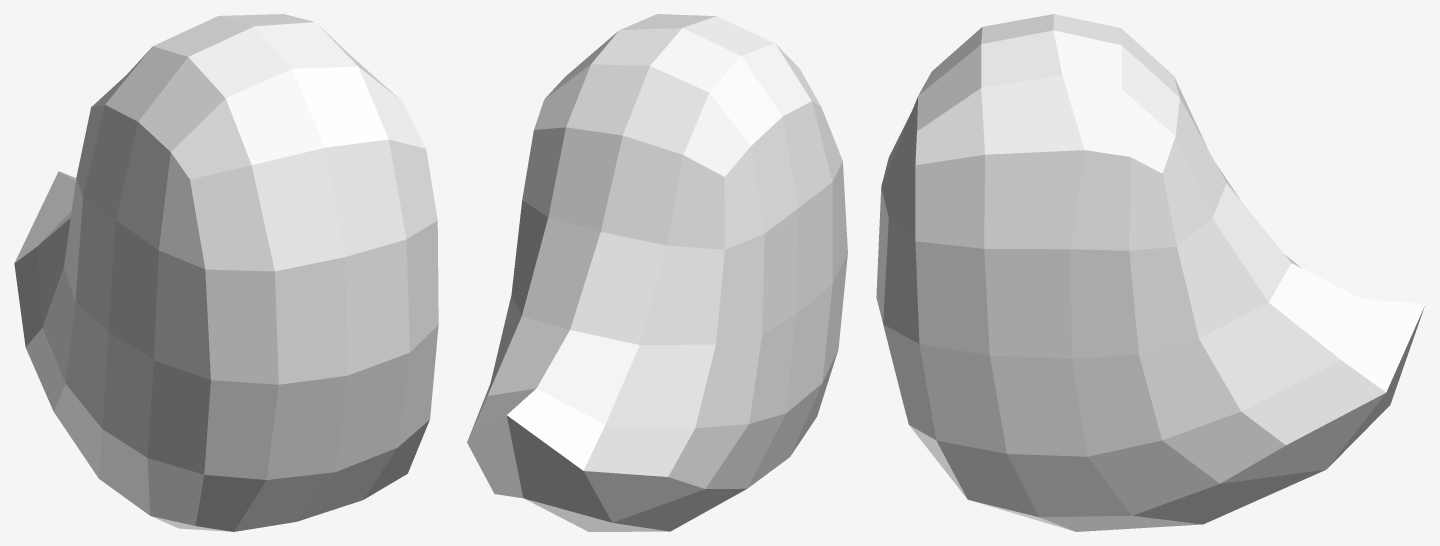
The model's file is Otoko.obj.
3 renders of one model, left to right at view 1: azimuth 30°, elevation 25°; view 2: azimuth 150°, elevation 25°; view 3: azimuth 270°, elevation 25°, orthographic. The views are drawn at different scales.
Parts seen in each view (by area): view 1: 立方体; view 2: 立方体; view 3: 立方体.
Boxes of the visible parts, x1,y1,x2,y2 form: 立方体: (14,14,438,531); 立方体: (467,14,847,531); 立方体: (876,14,1425,531).
Bounding box in the file's own units: 2 × 3.55 × 3.67.
